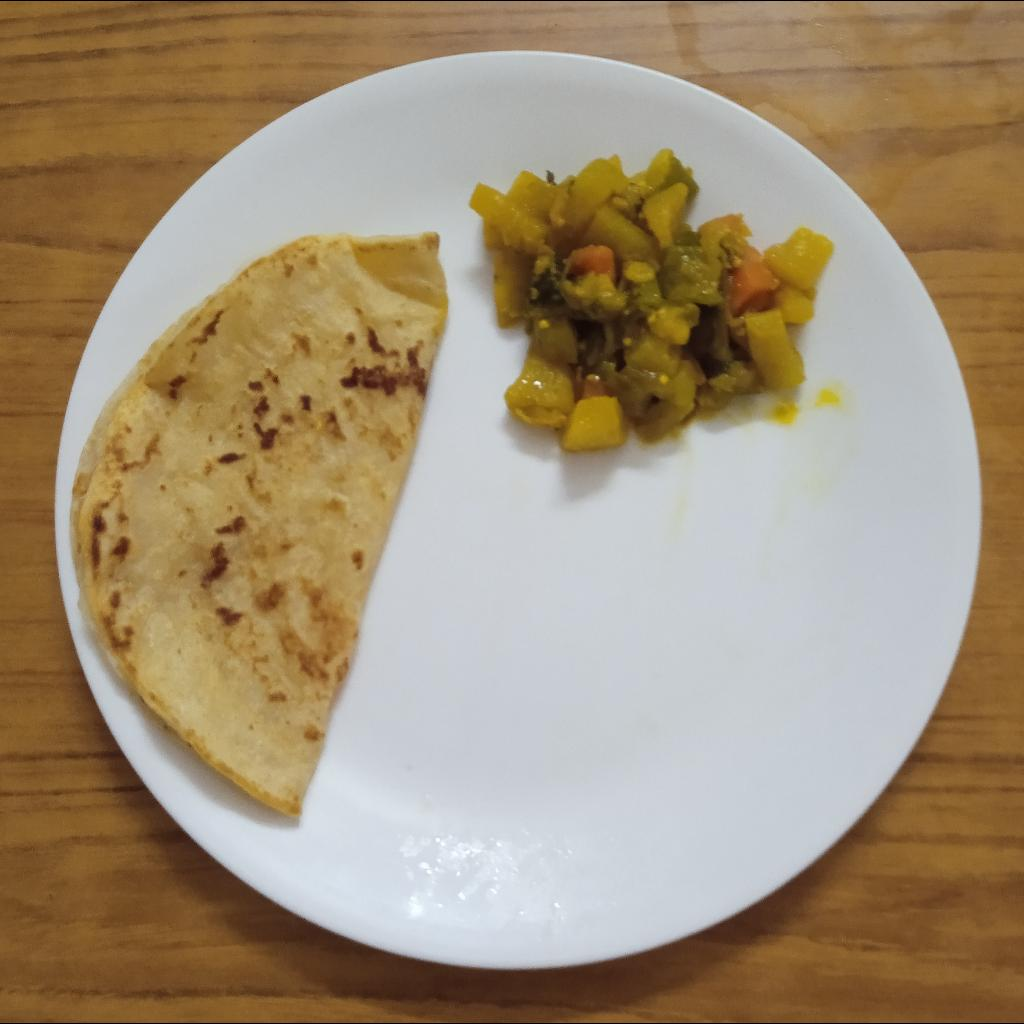ruti: (68, 234, 453, 821)
vegetable: (465, 148, 838, 453)
